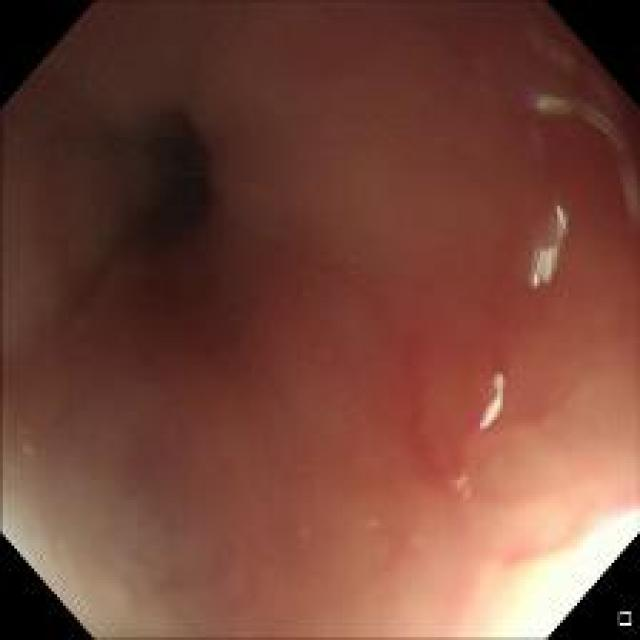color misalignment: (529, 95, 634, 221), (526, 199, 568, 285), (469, 362, 509, 430)
contrast: (64, 62, 295, 345)
saturation: (488, 500, 631, 634)
